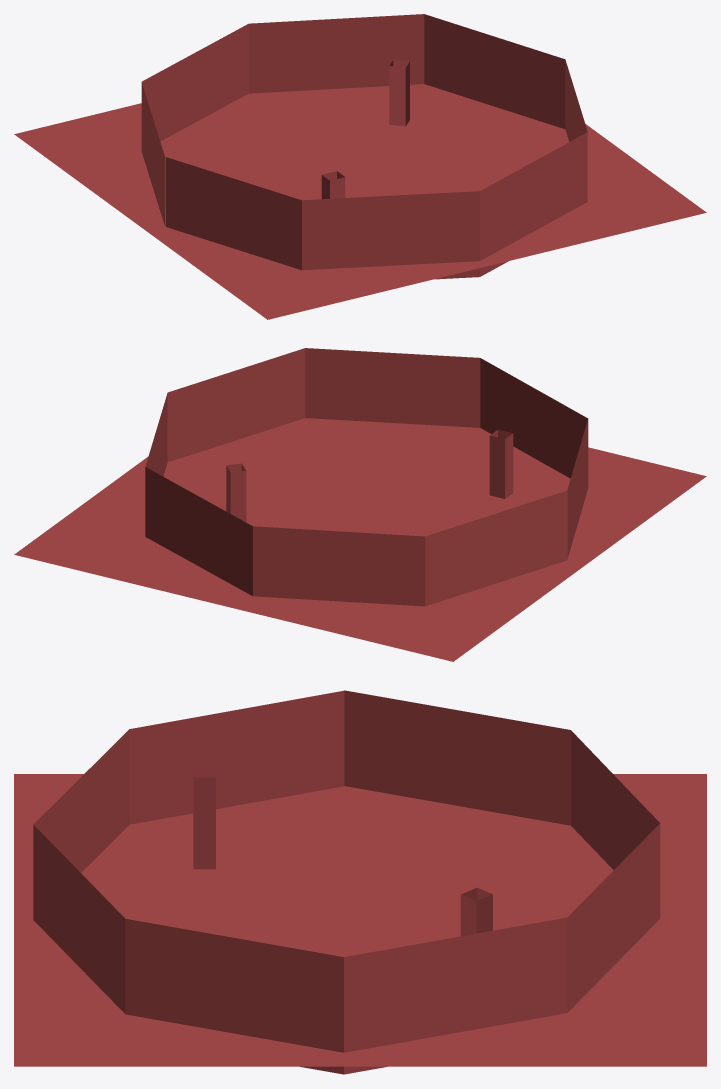
Rendered from XSD-JDZD_colliders.fbx.
The picture shows the model from 3 angles, top to bottom: view 1: azimuth 30°, elevation 25°; view 2: azimuth 150°, elevation 25°; view 3: azimuth 270°, elevation 25°; orthographic projection. The views are drawn at different scales.
Visible parts, largest first — view 1: wall, ground; view 2: wall, ground; view 3: wall, ground.
Part boxes in pixels (x1,y1,x2,y2): wall: (141, 14, 587, 279); ground: (14, 84, 706, 319); wall: (145, 348, 588, 606); ground: (14, 418, 706, 661); wall: (33, 690, 660, 1074); ground: (14, 774, 706, 1066).
Bounding box in the file's own units: 30.74 × 5.75 × 30.74.
